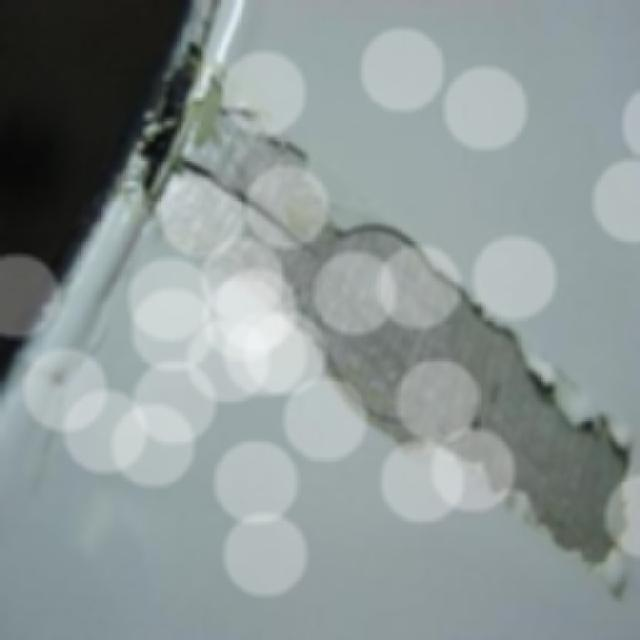crack: (239, 194, 316, 249), (179, 157, 228, 191)
